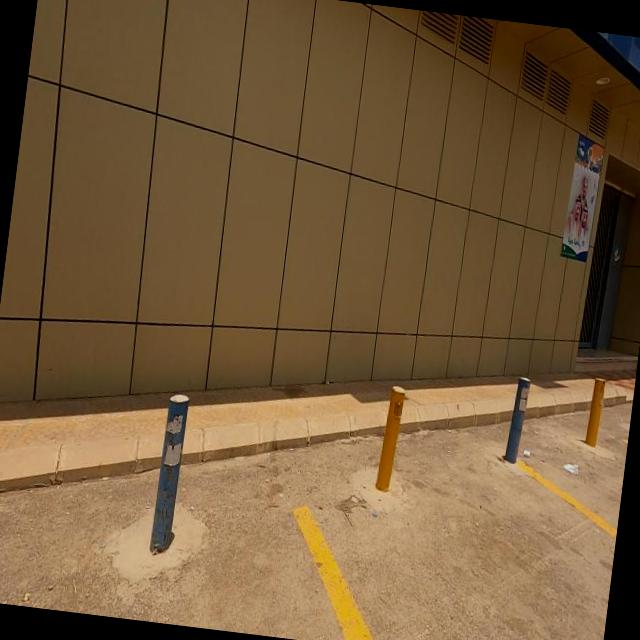debris: (504, 417, 557, 483), (554, 434, 597, 498)
